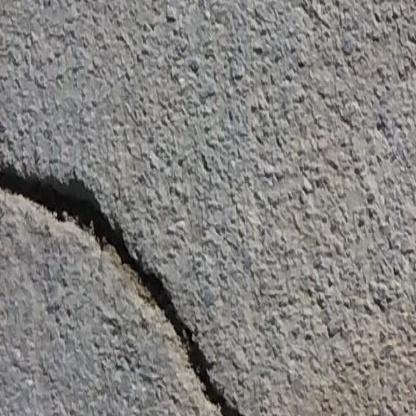Cracks: (0, 129, 254, 416)
